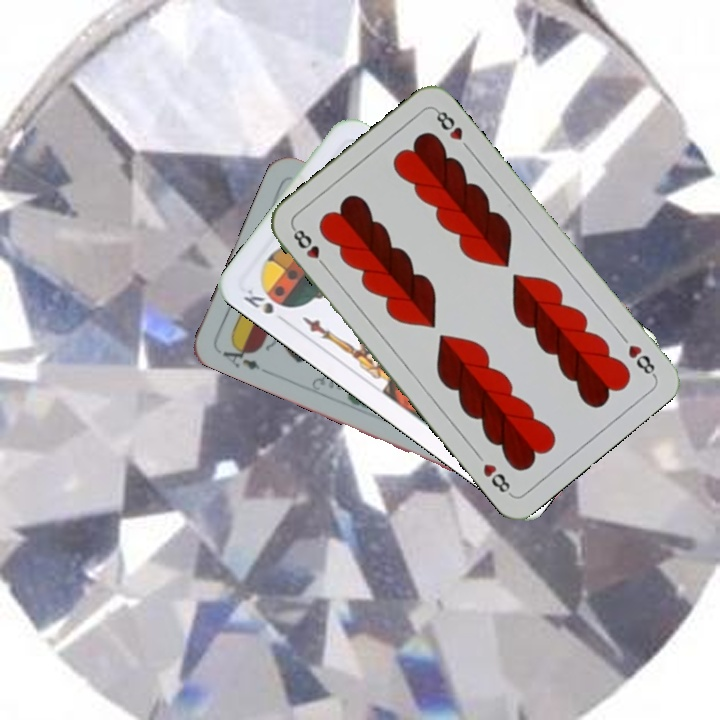EA: (218, 338, 263, 373)
H8: (289, 223, 331, 273), (623, 340, 659, 380)
SK: (239, 282, 277, 317)
